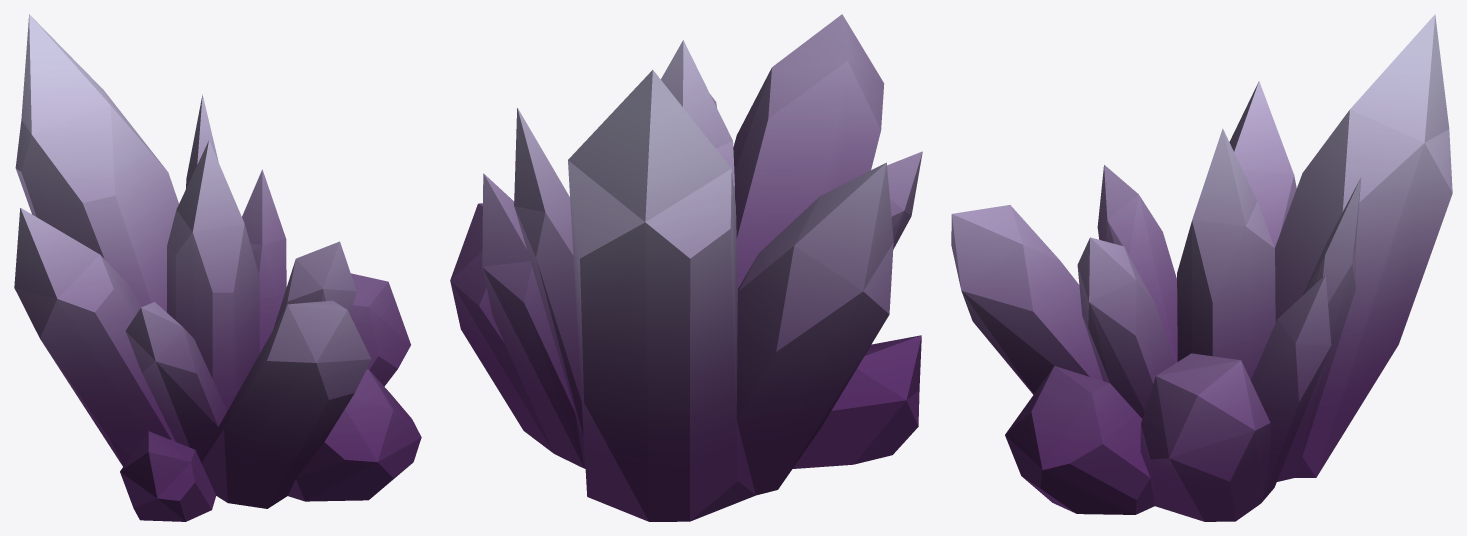
The model's file is Crystal_big.1.fbx.
3 views of the same model, side by side, from view 1: azimuth 30°, elevation 25°; view 2: azimuth 150°, elevation 25°; view 3: azimuth 270°, elevation 25° (orthographic). The views are drawn at different scales.
Visible parts, largest first — view 1: Crystal_big.1; view 2: Crystal_big.1; view 3: Crystal_big.1.
Boxes of the visible parts, x1,y1,x2,y2 form: Crystal_big.1: [14, 14, 421, 521]; Crystal_big.1: [450, 14, 922, 521]; Crystal_big.1: [951, 14, 1452, 521].
Size of the model in its own units: 77.24 by 83.01 by 92.1.
